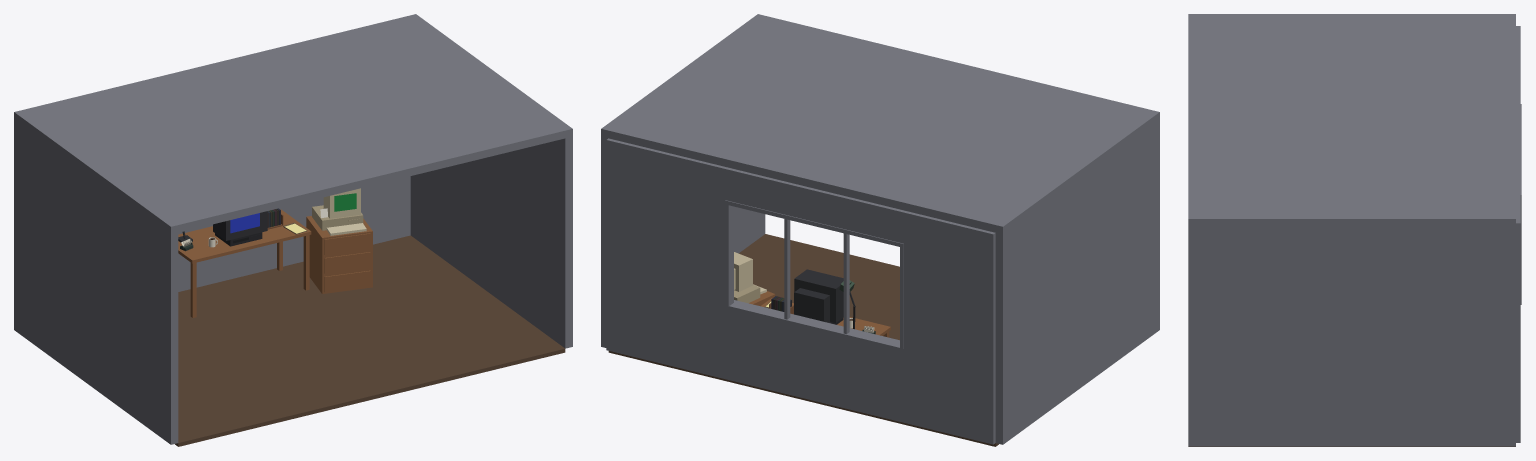
File: room.glb
The picture shows the model from 3 angles, left to right: view 1: azimuth 30°, elevation 25°; view 2: azimuth 150°, elevation 25°; view 3: azimuth 270°, elevation 25°; orthographic projection. The views are drawn at different scales.
Parts seen in each view (by area): view 1: static_room, static_floor, static_desk, tv_body, pc_body, pc_monitor; view 2: static_room, static_floor, tv_body, pc_monitor, static_desk; view 3: static_room.
Part boxes in pixels (<box>): static_room: <box>14,14,572,444</box>; static_floor: <box>175,235,565,446</box>; static_desk: <box>178,209,372,317</box>; tv_body: <box>213,211,267,240</box>; pc_body: <box>312,205,363,230</box>; pc_monitor: <box>323,188,360,218</box>; static_room: <box>601,14,1159,444</box>; static_floor: <box>608,234,998,446</box>; tv_body: <box>794,269,843,322</box>; pc_monitor: <box>734,252,752,291</box>; static_desk: <box>749,291,890,337</box>; static_room: <box>1188,14,1521,446</box>.
Size of the model in its own units: 5.4 by 2.85 by 3.71.
